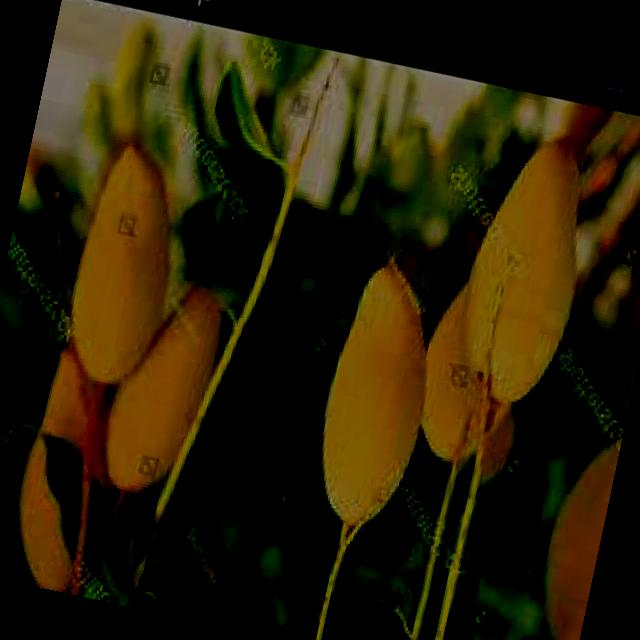Mango: (446, 124, 608, 413), (299, 258, 451, 539), (56, 143, 198, 395), (0, 344, 136, 597), (90, 272, 237, 506)
